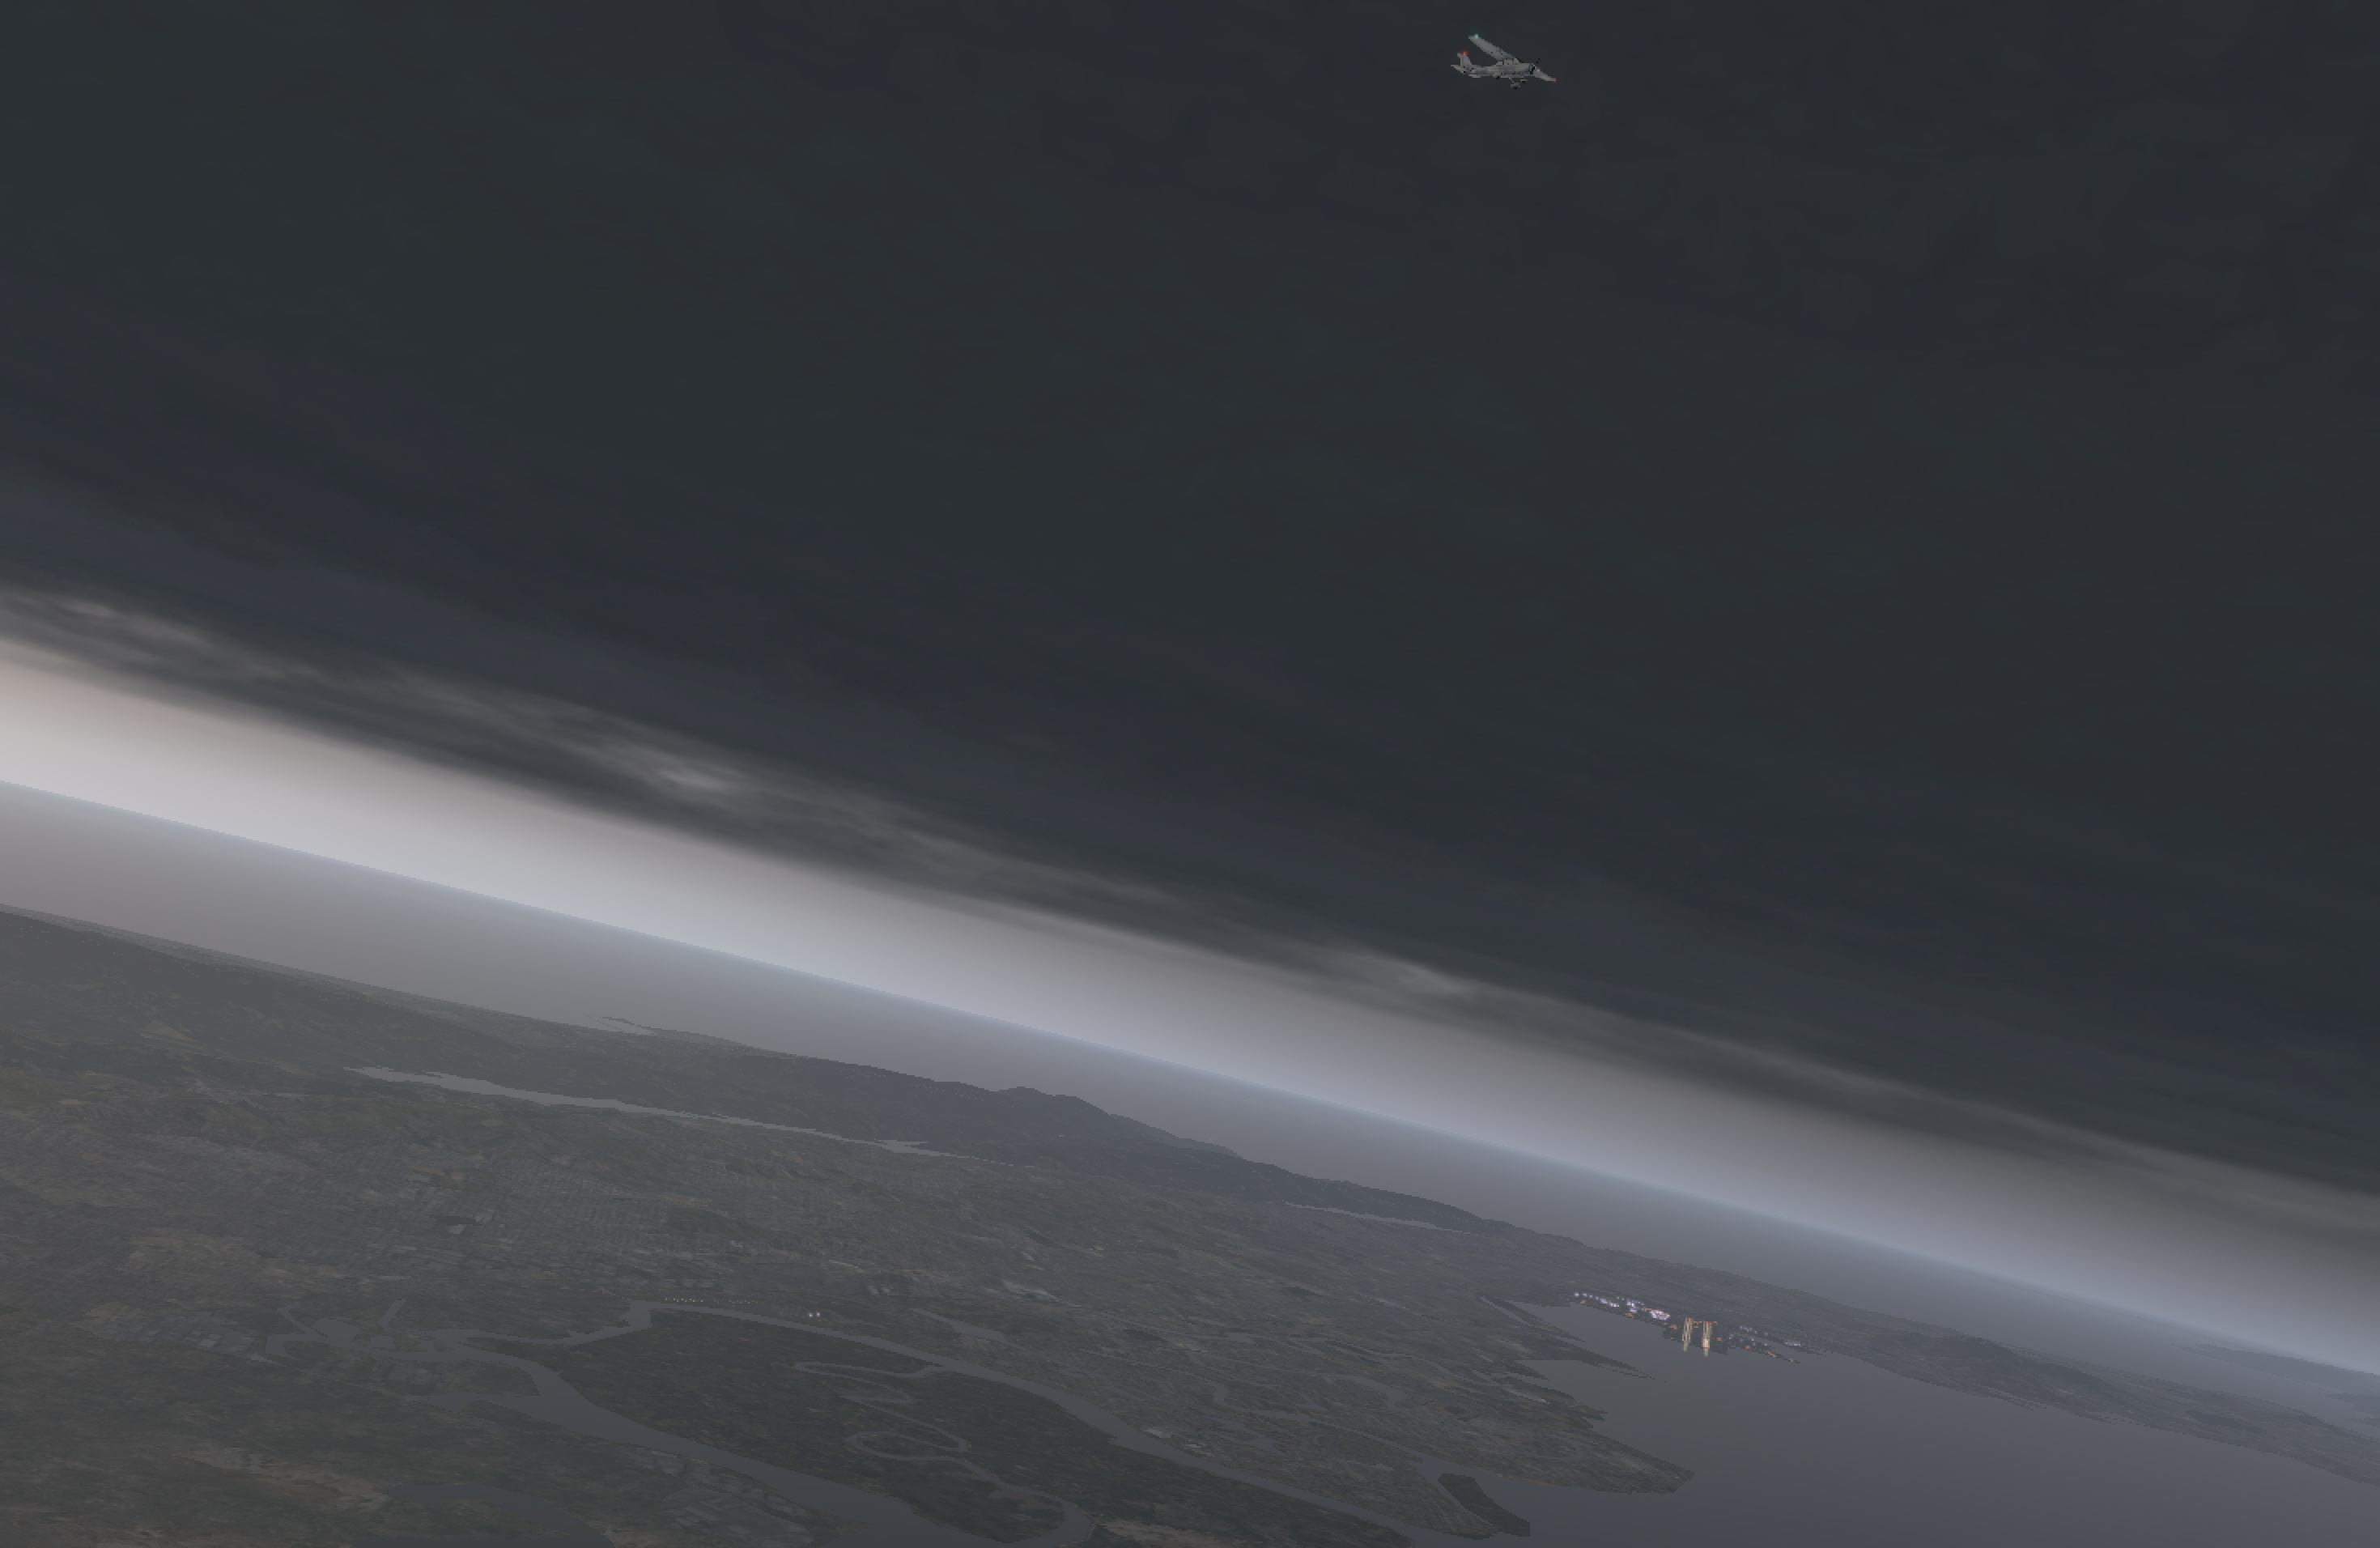aircraft: (1468, 50, 1559, 85)
